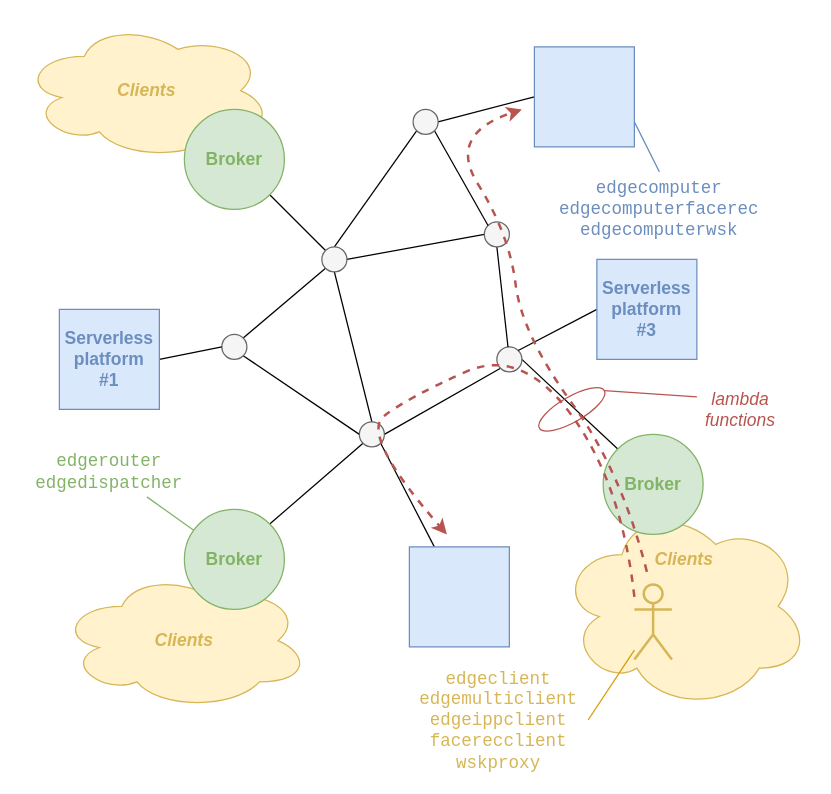
Some shapes in this 831 by 794 pixel diagram are drawn without their labels. Each missing label, with the centre of its shape:
"Serverless platform #2" belongs at (x=583, y=96).
"Serverless platform #4" belongs at (x=458, y=596).
